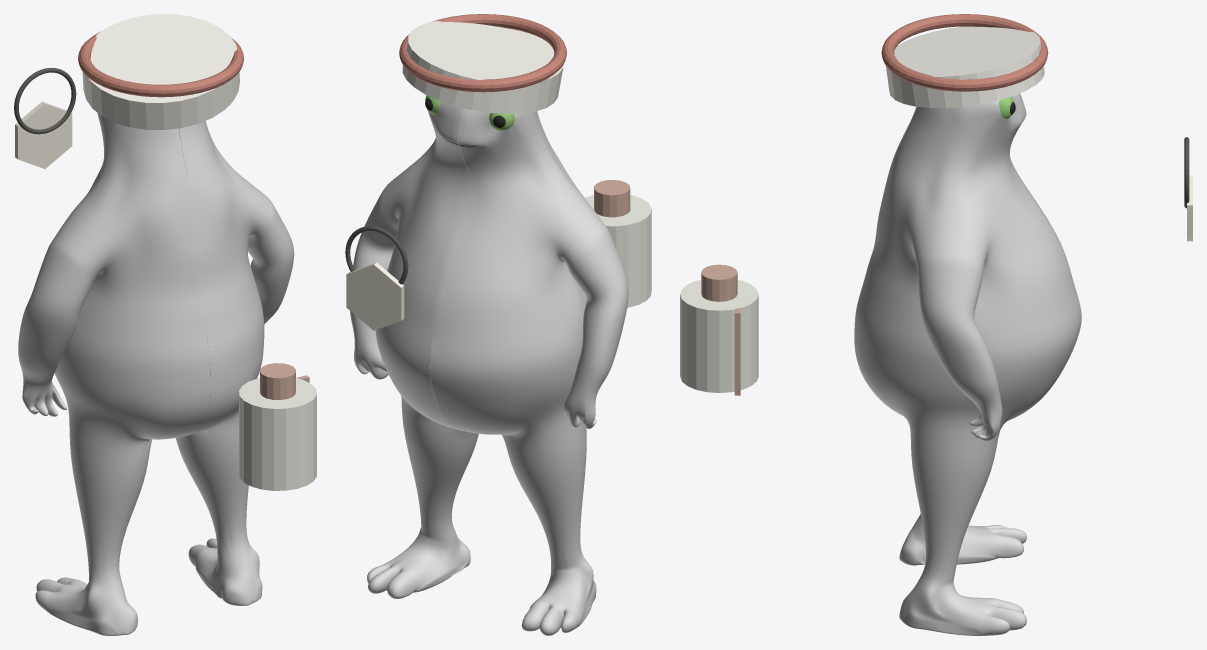
Rendered from milkfrog_no13.glb.
3 renders of one model, left to right at view 1: azimuth 30°, elevation 25°; view 2: azimuth 150°, elevation 25°; view 3: azimuth 270°, elevation 25°, orthographic.
Visible parts, largest first — view 1: MilkFrog_NO13_Body, NO13_Cap, NO13_PackBottle, NO13_Tag, NO13_CapRim, NO13_PackNipple, NO13_TagCord; view 2: MilkFrog_NO13_Body, NO13_Cap, NO13_CapRim, NO13_PackBottle, NO13_Tag, NO13_PackNipple, NO13_TagCord; view 3: MilkFrog_NO13_Body, NO13_Cap, NO13_PackBottle, NO13_CapRim, NO13_PackNipple.
Part boxes in pixels (x1=…): MilkFrog_NO13_Body: x1=18, y1=112, x2=294, y2=635; NO13_Cap: x1=82, y1=14, x2=239, y2=129; NO13_PackBottle: x1=239, y1=378, x2=316, y2=490; NO13_Tag: x1=15, y1=101, x2=72, y2=168; NO13_CapRim: x1=78, y1=31, x2=243, y2=97; NO13_PackNipple: x1=260, y1=363, x2=295, y2=399; NO13_TagCord: x1=14, y1=67, x2=76, y2=134; MilkFrog_NO13_Body: x1=350, y1=95, x2=628, y2=635; NO13_Cap: x1=402, y1=21, x2=563, y2=113; NO13_CapRim: x1=399, y1=14, x2=566, y2=92; NO13_PackBottle: x1=585, y1=195, x2=651, y2=307; NO13_Tag: x1=346, y1=262, x2=404, y2=330; NO13_PackNipple: x1=594, y1=180, x2=630, y2=217; NO13_TagCord: x1=345, y1=226, x2=408, y2=284; MilkFrog_NO13_Body: x1=854, y1=93, x2=1081, y2=635; NO13_Cap: x1=885, y1=26, x2=1044, y2=107; NO13_PackBottle: x1=680, y1=280, x2=758, y2=392; NO13_CapRim: x1=881, y1=14, x2=1048, y2=91; NO13_PackNipple: x1=701, y1=264, x2=737, y2=301.
Size of the model in its own units: 0.9665 by 1.95 by 1.64.
